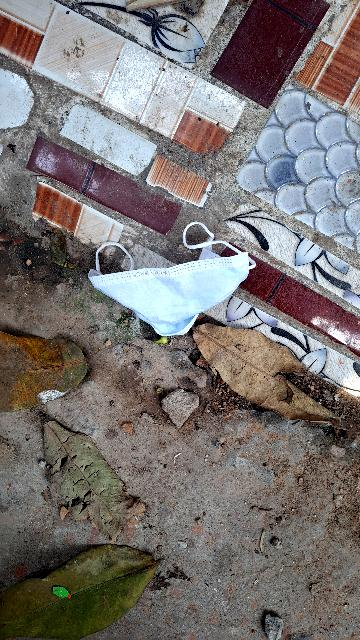mask: (76, 189, 260, 369)
